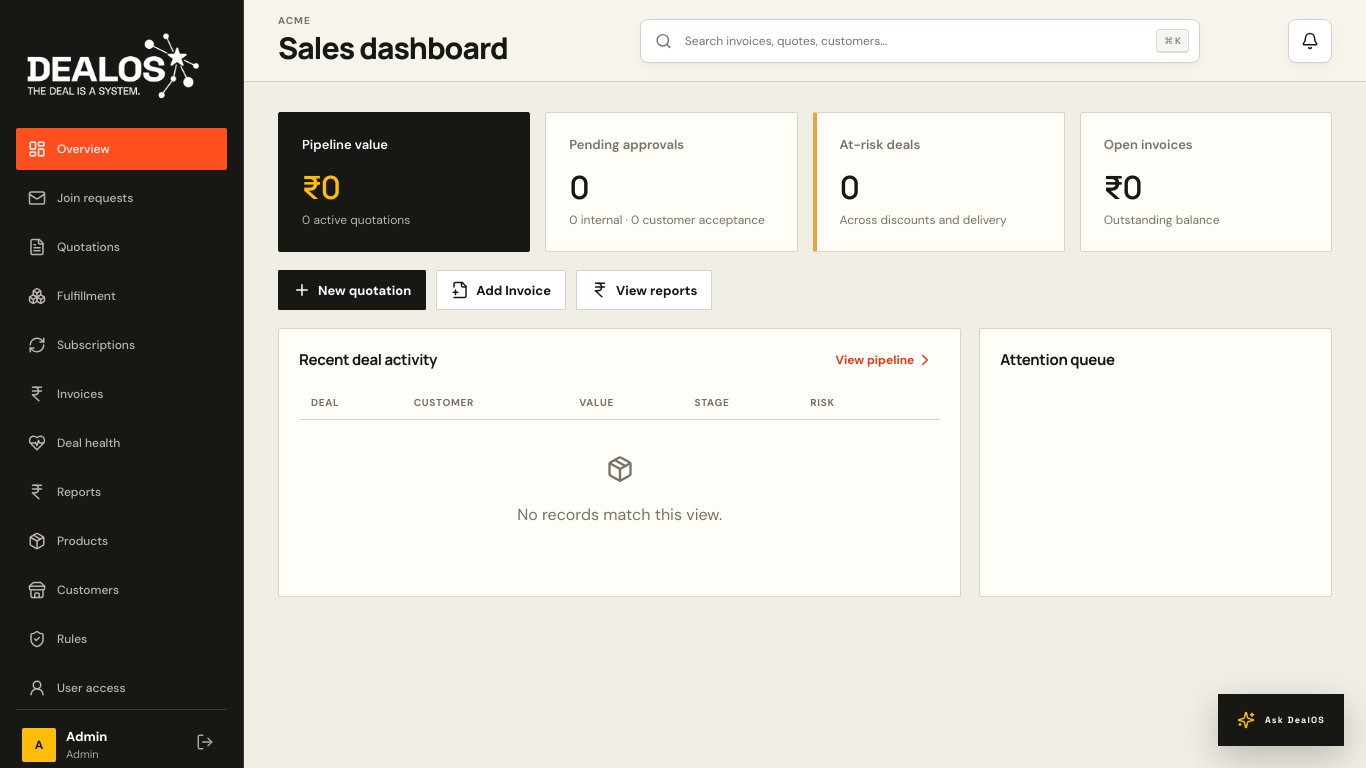
it: DealOS public routes › lets an organization admin open read-only details for an organization member
expect the heading "Sales dashboard" is shown: met, box [278, 26, 508, 68]
Click the button "User access": click(122, 688) [16, 667, 227, 709]
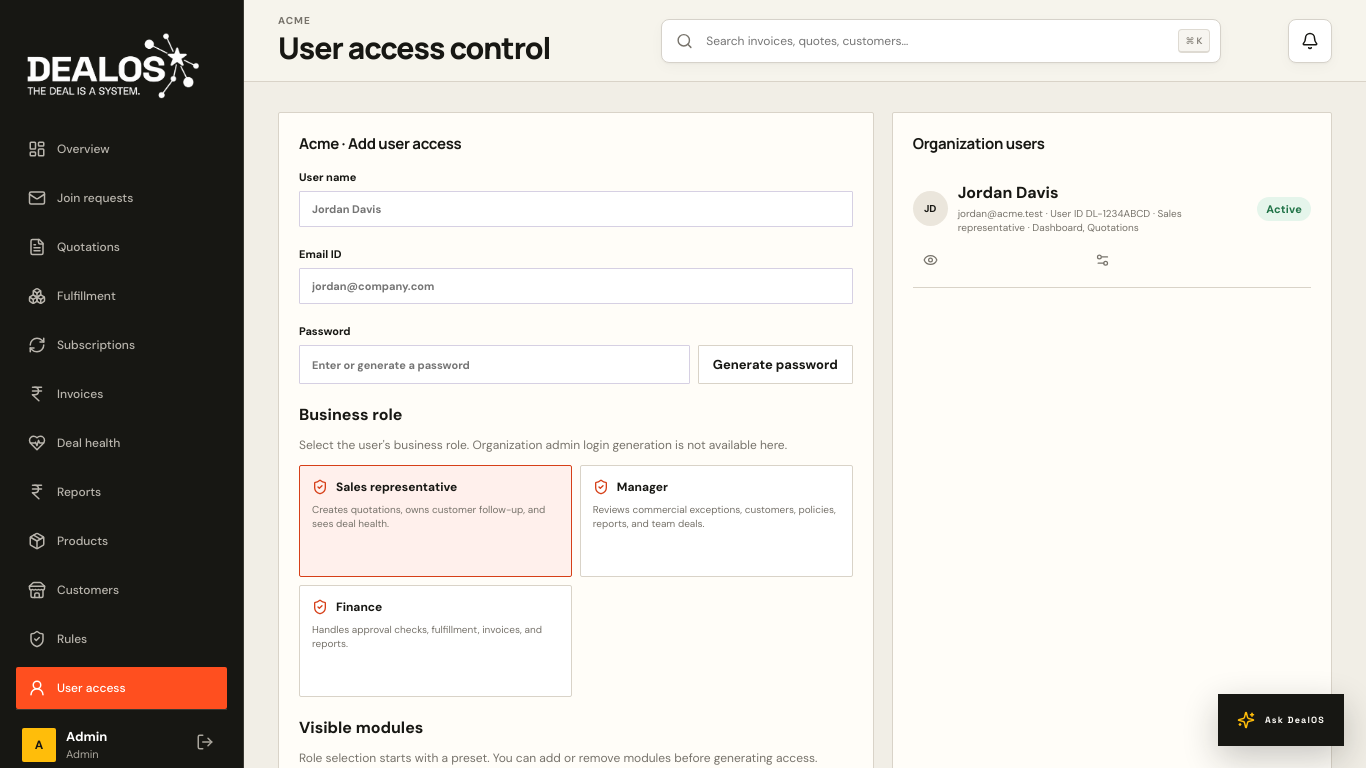
Click the button named "View details for Jordan Davis": click(930, 260) [913, 245, 948, 275]
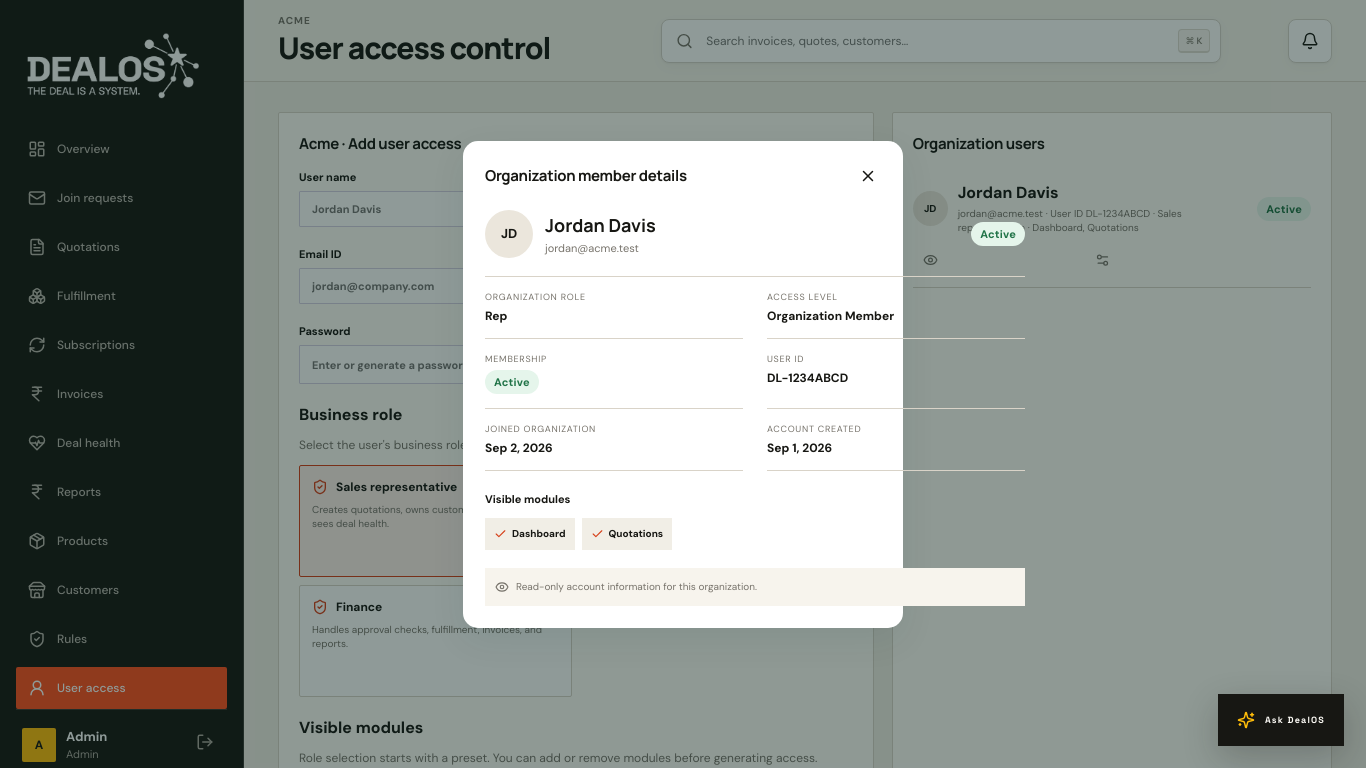
expect the text "jordan@acme.test" is shown: met, box [545, 240, 639, 254]
expect the text "Organization Member" is shown: met, box [767, 308, 894, 324]
expect the text "Quotations" is shown: met, box [582, 518, 672, 550]
